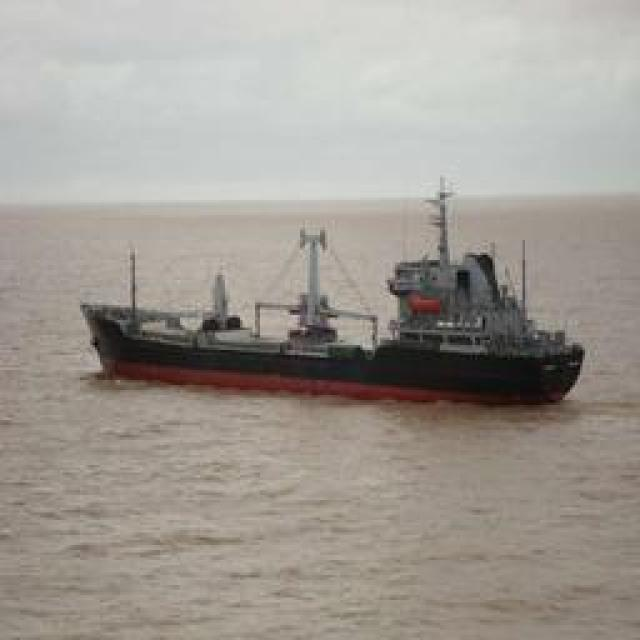CIV_Ship: (76, 202, 589, 402)
